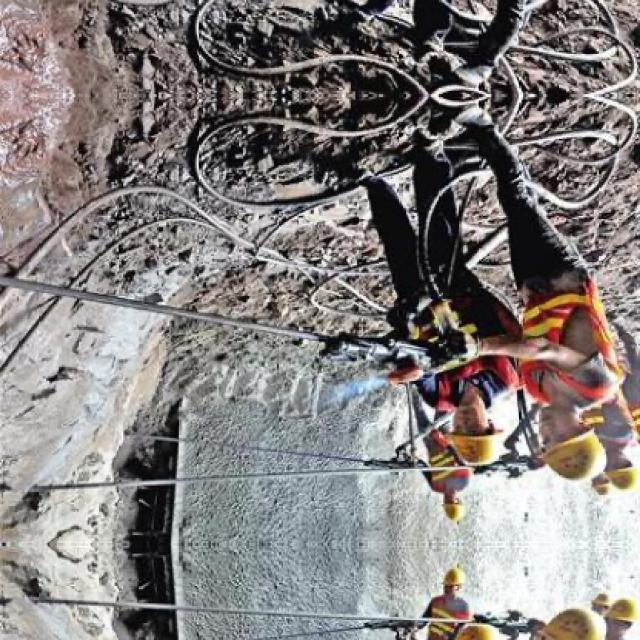con casco: (418, 378, 507, 480), (538, 384, 601, 485)
